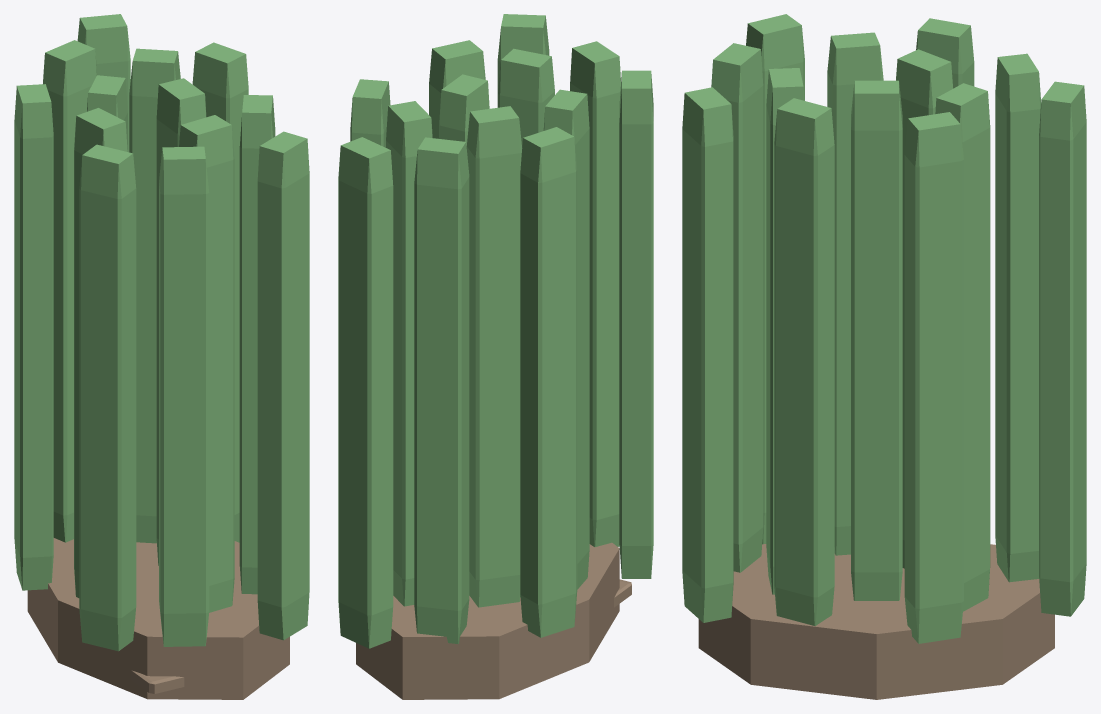
The model's file is b08_pampas_grass.glb.
The picture shows the model from 3 angles, left to right: view 1: azimuth 30°, elevation 25°; view 2: azimuth 150°, elevation 25°; view 3: azimuth 270°, elevation 25°; orthographic projection. The views are drawn at different scales.
Parts seen in each view (by area): view 1: b08_pampas_grass; view 2: b08_pampas_grass; view 3: b08_pampas_grass.
Boxes of the visible parts, x1,y1,x2,y2 form: b08_pampas_grass: [14, 14, 309, 699]; b08_pampas_grass: [338, 14, 653, 699]; b08_pampas_grass: [682, 14, 1086, 699].
Size of the model in its own units: 1.13 by 2.55 by 1.63.
